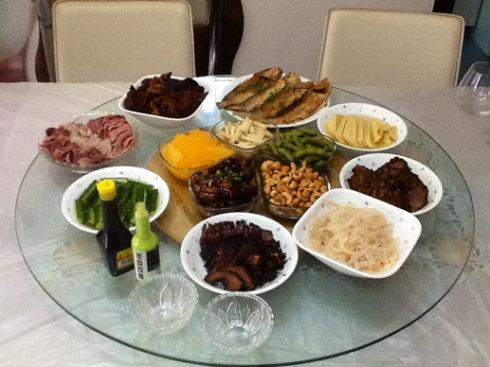food: (291, 182, 421, 280), (178, 203, 299, 297), (220, 60, 337, 123), (339, 146, 440, 215), (40, 101, 136, 168), (256, 141, 335, 216), (119, 65, 212, 128), (180, 140, 258, 214), (157, 122, 244, 187), (318, 93, 407, 154), (258, 122, 336, 178)
